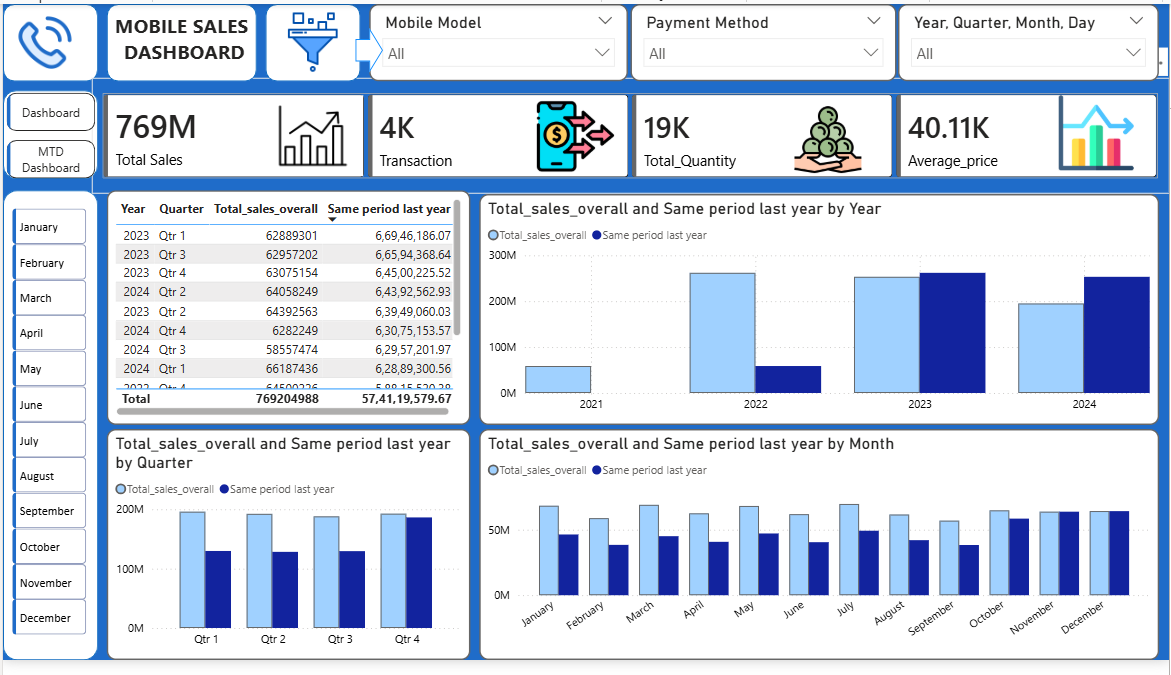

The page's visual inventory and layout, read from the dashboard file:
{"tool":"powerbi","page":{"name":"Same Period last year ","canvas":[1280,720],"ordinal":2},"visuals":[{"type":"shape","box":[0,0,104.3,85.1],"z":0},{"type":"image","box":[13.7,0,64.5,85.1],"z":1000},{"type":"shape","box":[0,94.7,104.3,97.4],"z":2000},{"type":"shape","box":[0,204.5,104.3,516],"z":3000},{"type":"advancedSlicerVisual","fields":{"Values":["Custom_calender.Date.Variation.Date Hierarchy.Month"]},"box":[5.5,204.5,91.9,516],"z":4000},{"type":"cardVisual","fields":{"Data":["Cell_phone_data.Total_sales_overall","Cell_phone_data.Transaction","Cell_phone_data.Total_Quantity","Cell_phone_data.Average_price"]},"box":[97.4,81,1182.9,127.6],"z":5000},{"type":"image","box":[263.5,97.4,153.7,94.7],"z":6000},{"type":"image","box":[551.6,102.9,153.7,85.1],"z":7000},{"type":"image","box":[828.8,109.8,153.7,78.2],"z":8000},{"type":"image","box":[1119.7,100.2,160.5,82.3],"z":9000},{"type":"slicer","fields":{"Values":["Cell_phone_data.Mobile Model"]},"box":[402.1,0,284,85.1],"z":10000},{"type":"slicer","fields":{"Values":["Cell_phone_data.Payment Method"]},"box":[688.9,0,292.3,85.1],"z":11000},{"type":"slicer","fields":{"Values":["Custom_calender.Date.Variation.Date Hierarchy.Year","Custom_calender.Date.Variation.Date Hierarchy.Quarter","Custom_calender.Date.Variation.Date Hierarchy.Month","Custom_calender.Date.Variation.Date Hierarchy.Day"]},"box":[982.5,0,286.8,85.1],"z":12000},{"type":"shape","box":[288.2,0,104.3,85.1],"z":13000},{"type":"shape","box":[113.9,0,164.7,85.1],"z":14000},{"type":"image","box":[293.7,8.2,93.3,67.2],"z":15000},{"type":"shape","box":[387,26.1,30.2,49.4],"z":16000},{"type":"textbox","box":[113.9,4.1,164.7,75.5],"z":17000},{"type":"tableEx","fields":{"Values":["Custom_calender.Date.Variation.Date Hierarchy.Year","Custom_calender.Date.Variation.Date Hierarchy.Quarter","Cell_phone_data.Total_sales_overall","Cell_phone_data.Same period last year"]},"box":[113.9,204.5,399.3,258],"z":18000},{"type":"clusteredColumnChart","fields":{"Category":["Custom_calender.Date.Variation.Date Hierarchy.Year","Custom_calender.Date.Variation.Date Hierarchy.Quarter"],"Y":["Cell_phone_data.Total_sales_overall","Cell_phone_data.Same period last year"]},"box":[522.8,208.6,746.5,253.9],"z":19000},{"type":"clusteredColumnChart","fields":{"Category":["Custom_calender.Date.Variation.Date Hierarchy.Year","Custom_calender.Date.Variation.Date Hierarchy.Quarter","Custom_calender.Date.Variation.Date Hierarchy.Month"],"Y":["Cell_phone_data.Total_sales_overall","Cell_phone_data.Same period last year"]},"box":[522.8,466.6,746.5,253.9],"z":20000},{"type":"clusteredColumnChart","fields":{"Category":["Custom_calender.Date.Variation.Date Hierarchy.Year","Custom_calender.Date.Variation.Date Hierarchy.Quarter"],"Y":["Cell_phone_data.Total_sales_overall","Cell_phone_data.Same period last year"]},"box":[113.9,466.6,399.3,253.9],"z":21000},{"type":"pageNavigator","box":[4.1,97.4,97.4,94.7],"z":22000}]}

Visuals, with their boxes in screenshot pixels (x1, y1, x2, y2), scaled from the page's 1280x720 canvas onto the 1171x675 screenshot:
shape: box(0, 0, 95, 80)
image: box(13, 0, 72, 80)
shape: box(0, 89, 95, 180)
shape: box(0, 192, 95, 674)
advancedSlicerVisual - Custom_calender.Date.Variation.Date Hierarchy.Month: box(5, 192, 89, 674)
cardVisual - Cell_phone_data.Total_sales_overall x Cell_phone_data.Transaction: box(89, 76, 1170, 196)
image: box(241, 91, 382, 180)
image: box(505, 96, 645, 176)
image: box(758, 103, 899, 176)
image: box(1024, 94, 1170, 171)
slicer - Cell_phone_data.Mobile Model: box(368, 0, 628, 80)
slicer - Cell_phone_data.Payment Method: box(630, 0, 898, 80)
slicer - Custom_calender.Date.Variation.Date Hierarchy.Year x Custom_calender.Date.Variation.Date Hierarchy.Quarter: box(899, 0, 1161, 80)
shape: box(264, 0, 359, 80)
shape: box(104, 0, 255, 80)
image: box(269, 8, 354, 71)
shape: box(354, 24, 382, 71)
textbox: box(104, 4, 255, 75)
tableEx - Custom_calender.Date.Variation.Date Hierarchy.Year x Custom_calender.Date.Variation.Date Hierarchy.Quarter: box(104, 192, 469, 434)
clusteredColumnChart - Custom_calender.Date.Variation.Date Hierarchy.Year x Custom_calender.Date.Variation.Date Hierarchy.Quarter: box(478, 196, 1161, 434)
clusteredColumnChart - Custom_calender.Date.Variation.Date Hierarchy.Year x Custom_calender.Date.Variation.Date Hierarchy.Quarter: box(478, 437, 1161, 674)
clusteredColumnChart - Custom_calender.Date.Variation.Date Hierarchy.Year x Custom_calender.Date.Variation.Date Hierarchy.Quarter: box(104, 437, 469, 674)
pageNavigator: box(4, 91, 93, 180)
